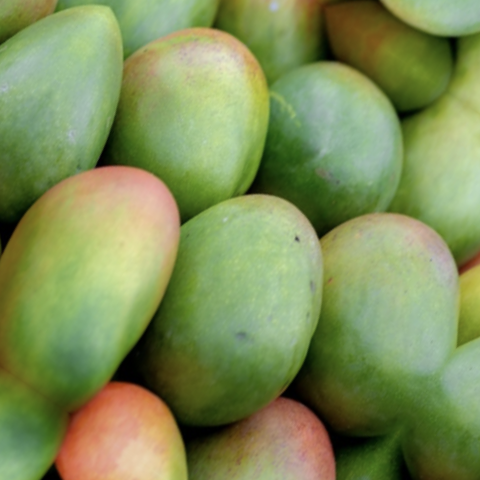mango: (79, 145, 389, 463), (223, 162, 480, 477), (0, 115, 239, 429), (209, 7, 465, 263)
